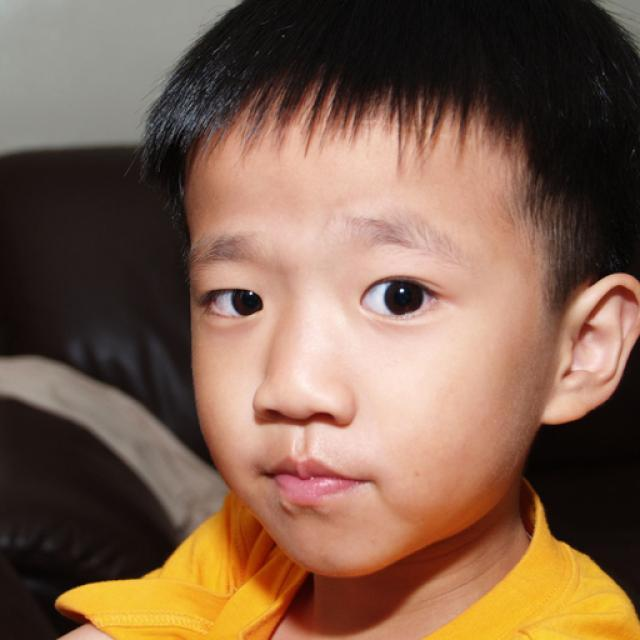sad: (180, 100, 552, 578)
